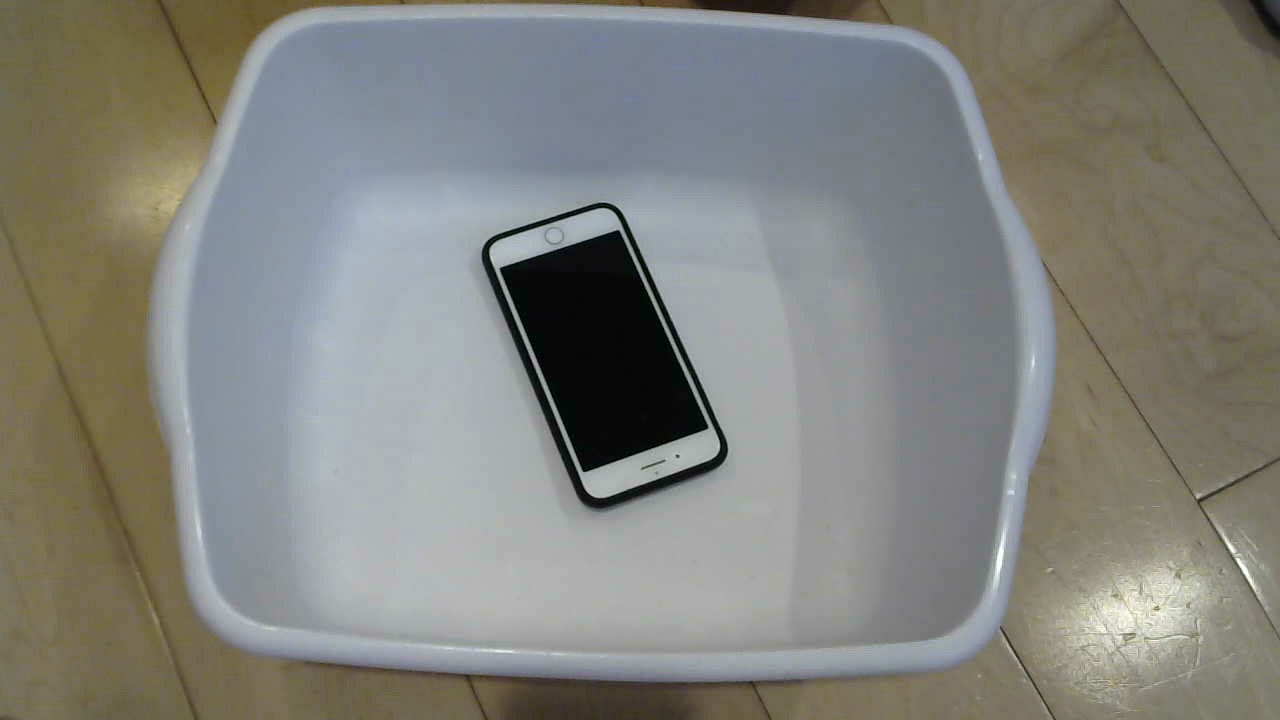phone: (448, 201, 759, 522)
